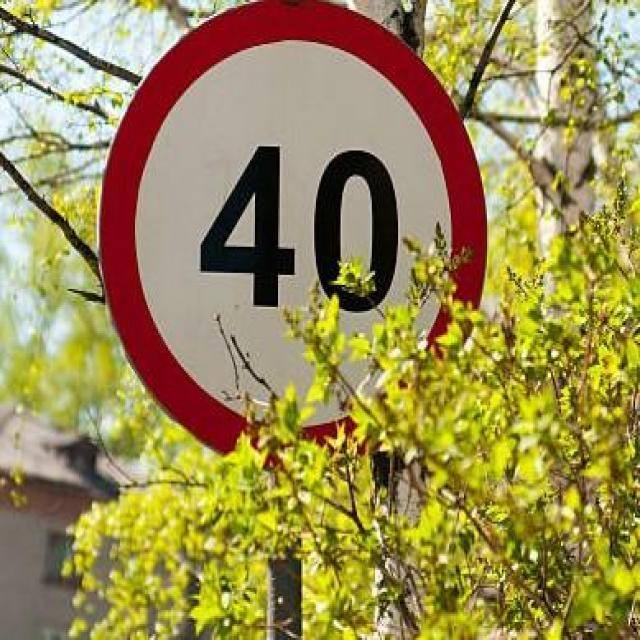obstructed_road_sign: (102, 2, 486, 465)
